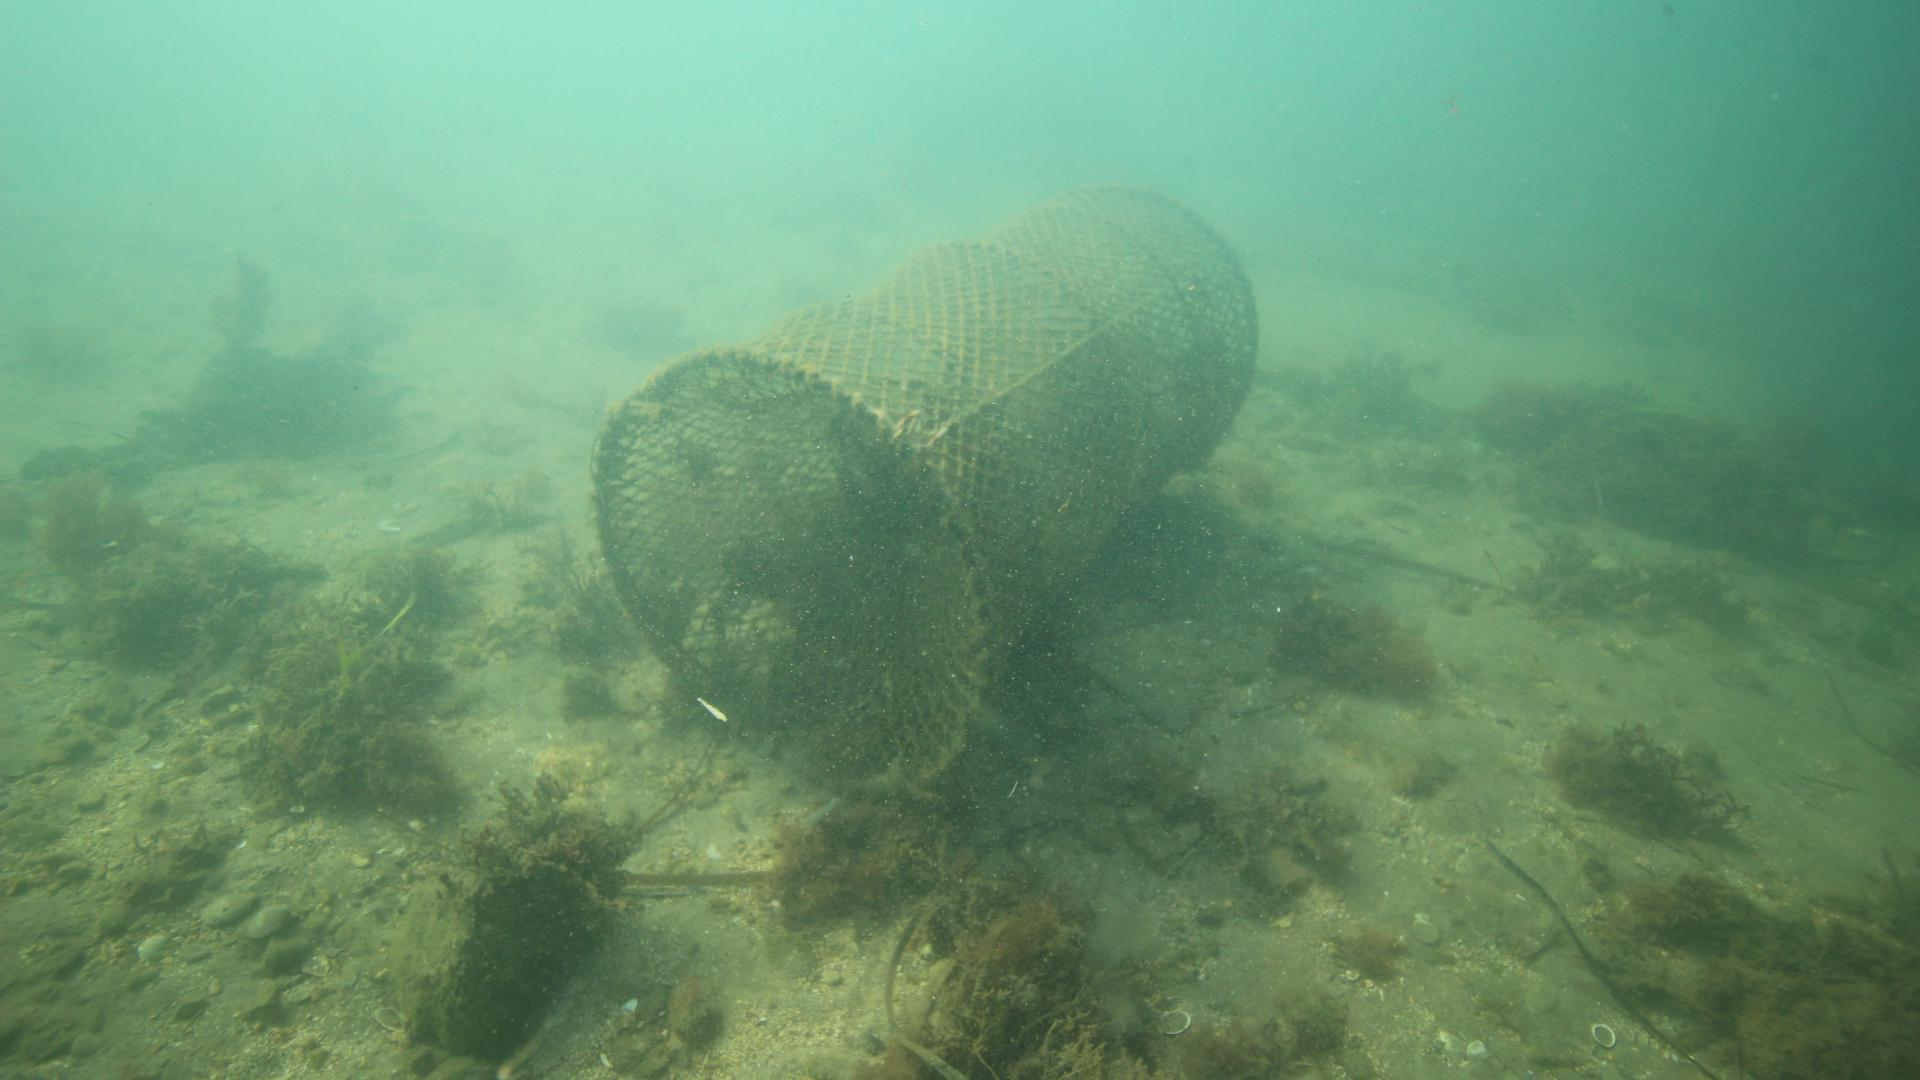spring fish trap: (587, 175, 1261, 804)
